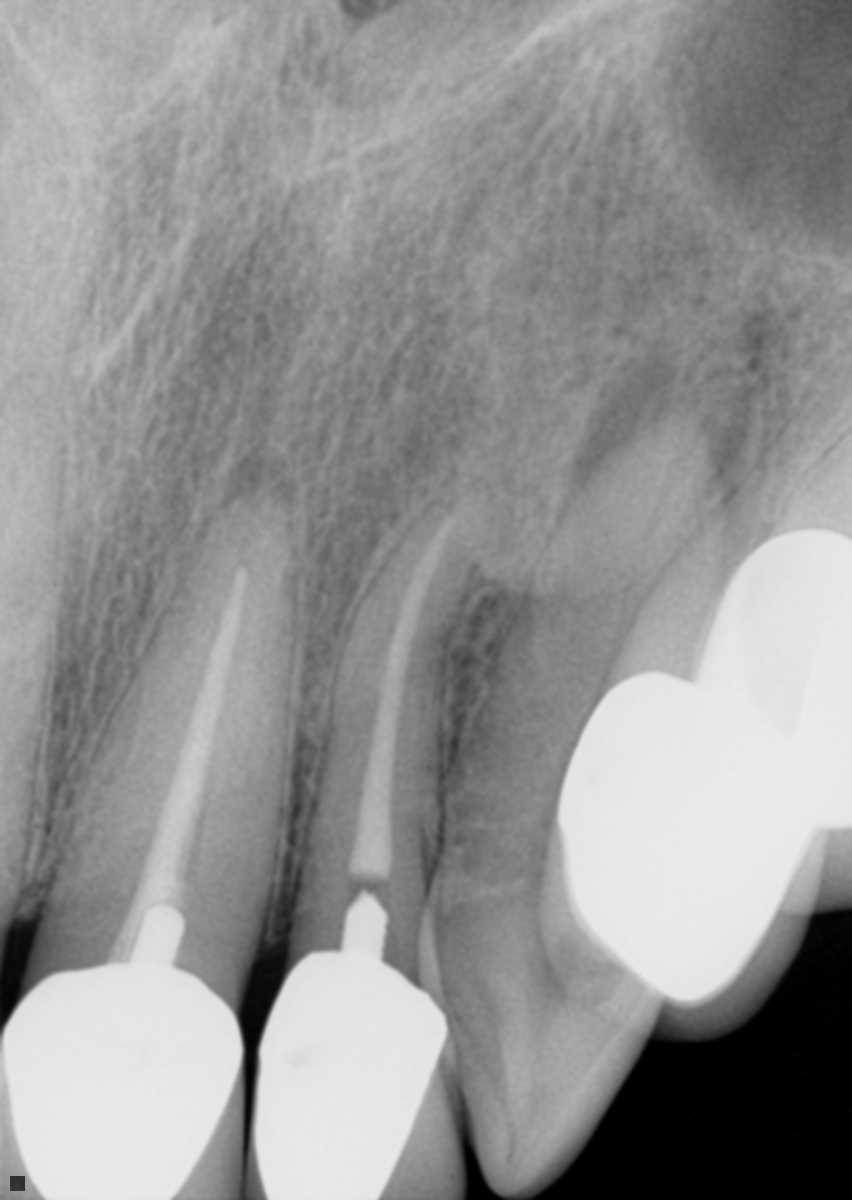Apical Lesion: (580, 336, 760, 473), (216, 441, 305, 514)
Distal Root: (42, 487, 305, 937)
Main Root: (294, 495, 487, 933), (0, 374, 65, 869)
Root Canal Filling: (107, 558, 248, 959), (349, 513, 460, 878)
